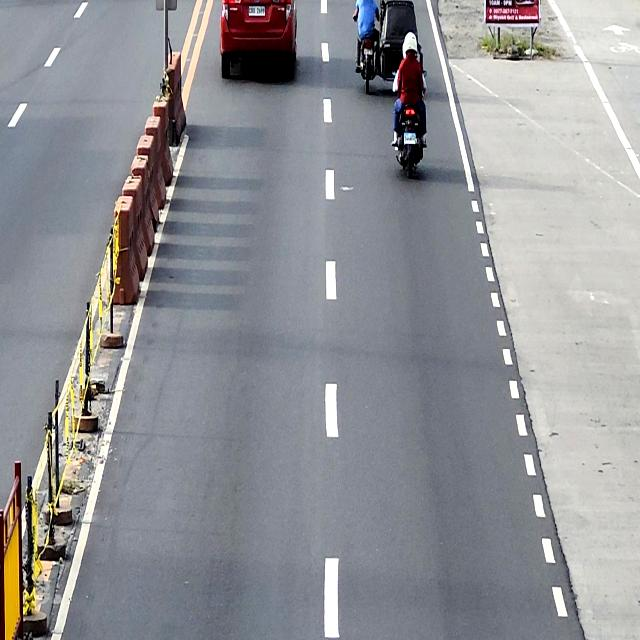Car: (220, 0, 298, 79)
License-Plate: (248, 4, 265, 17), (404, 132, 416, 145), (363, 48, 373, 56)
Motorcycle: (392, 71, 427, 178)
Tricycle: (354, 0, 422, 94)
